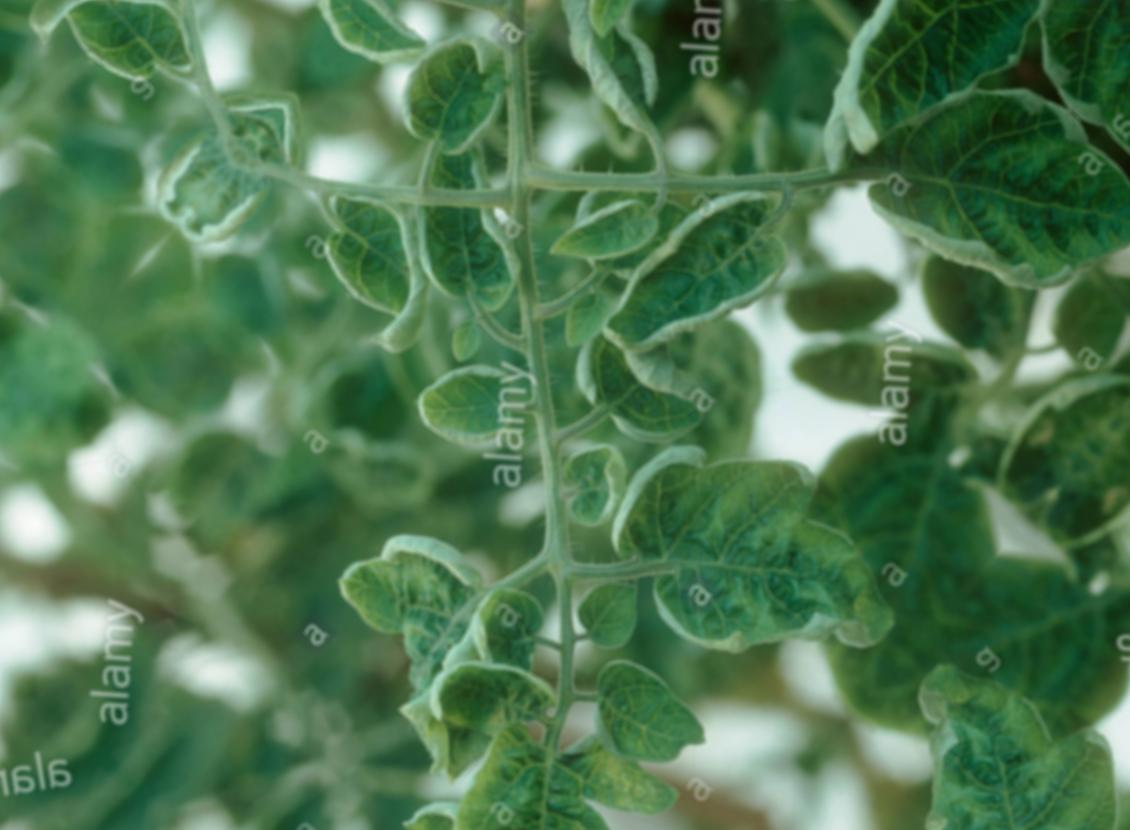Tomato leaf yellow virus: (563, 372, 961, 764), (714, 0, 1083, 277), (829, 28, 1130, 363), (281, 446, 594, 761), (339, 59, 623, 341), (579, 138, 853, 420), (314, 660, 714, 830), (328, 278, 579, 541), (182, 92, 387, 300), (597, 0, 857, 88)
